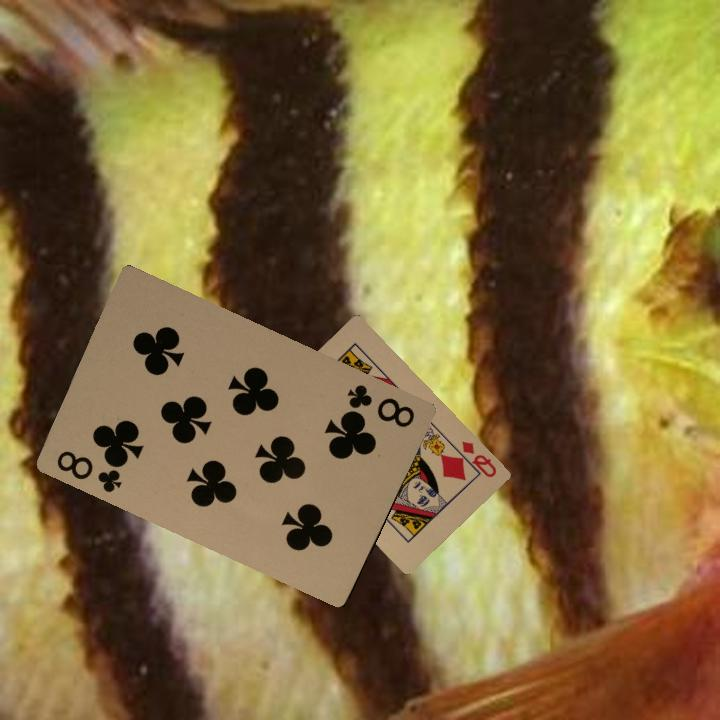8c: (343, 380, 417, 430), (52, 446, 125, 496)
Qd: (451, 437, 499, 480)
